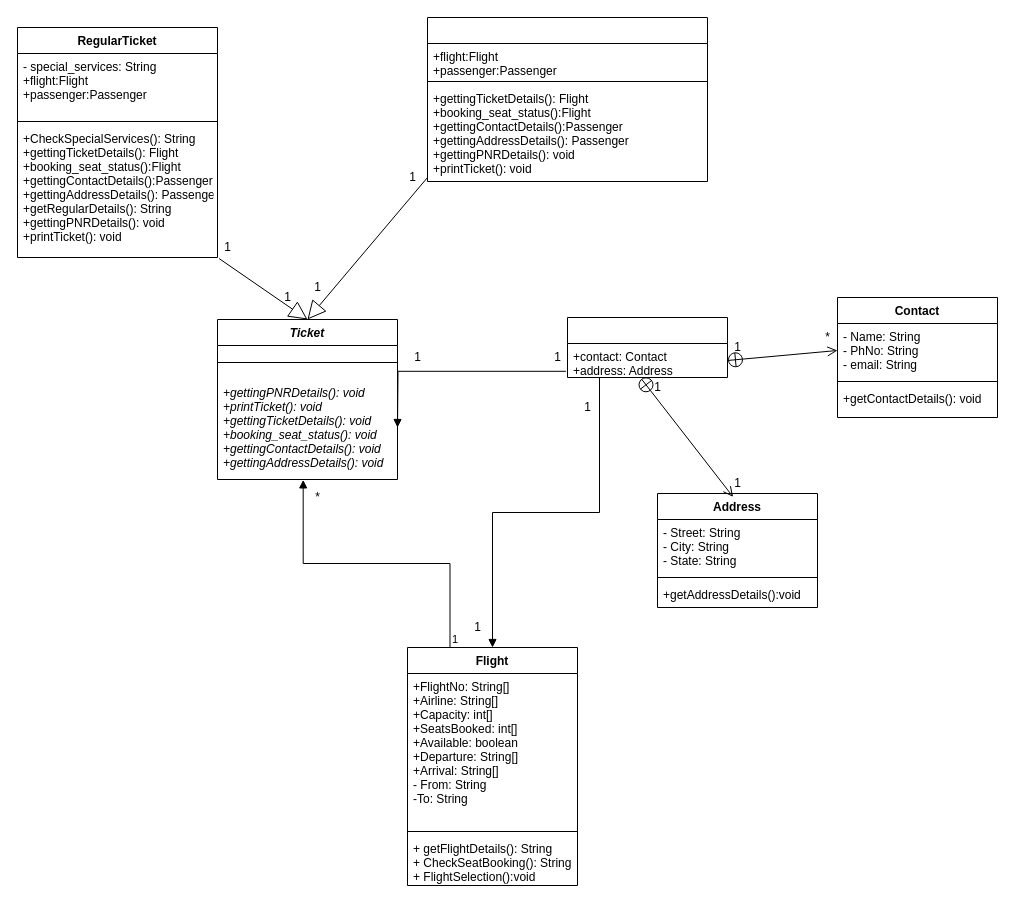
The diagram is 1015 pixels wide and 906 high, and some of its shapes have lost their labels. Each missing label, with the box of its shape:
Passenger: (566, 316, 728, 378)
TouristTicket: (426, 16, 708, 182)
